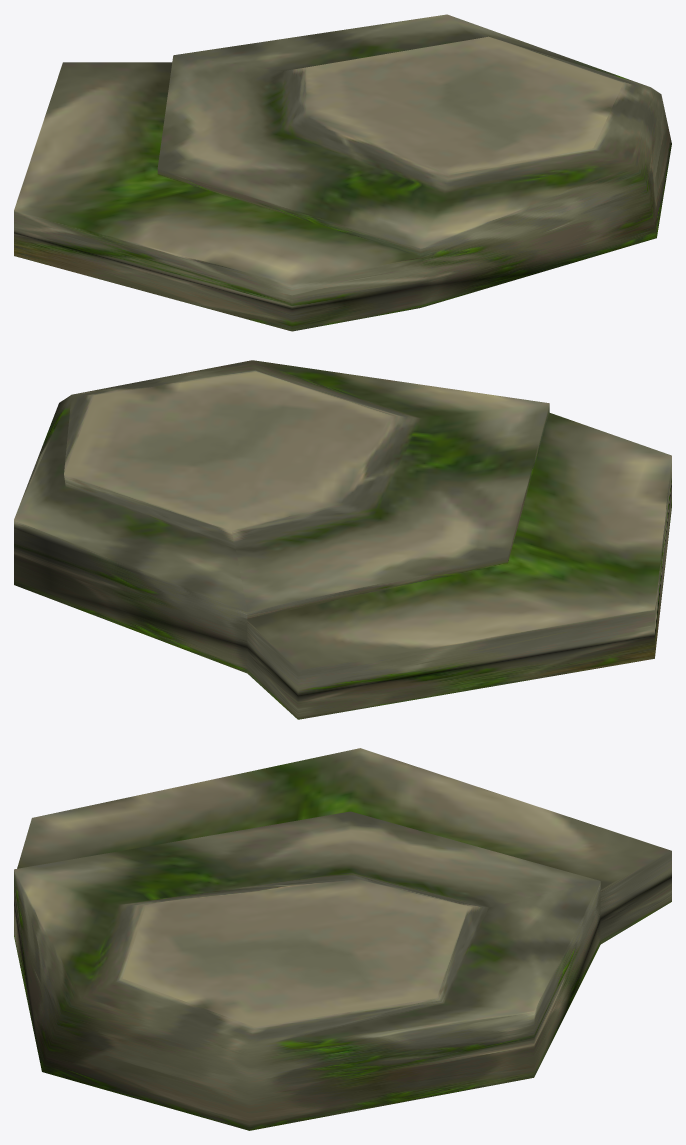
File: RockFormation_4_5 (19).fbx
3 views of the same model, one above another, from view 1: azimuth 30°, elevation 25°; view 2: azimuth 150°, elevation 25°; view 3: azimuth 270°, elevation 25° (orthographic). The views are drawn at different scales.
Parts seen in each view (by area): view 1: RockFormation_4_5 (19); view 2: RockFormation_4_5 (19); view 3: RockFormation_4_5 (19).
Boxes of the visible parts, bbox=[...] form: RockFormation_4_5 (19): bbox=[14, 14, 671, 331]; RockFormation_4_5 (19): bbox=[14, 360, 671, 719]; RockFormation_4_5 (19): bbox=[14, 748, 671, 1130].
Bounding box in the file's own units: 2600 × 287 × 2179.
